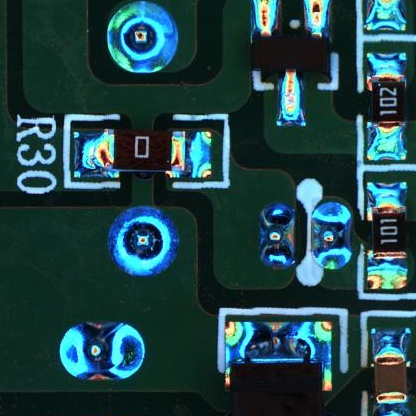spot: (108, 204, 181, 279), (59, 321, 146, 383), (107, 3, 179, 75), (311, 200, 353, 271), (257, 201, 296, 267)
